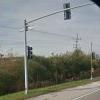Traffic light: (20, 41, 37, 66)
